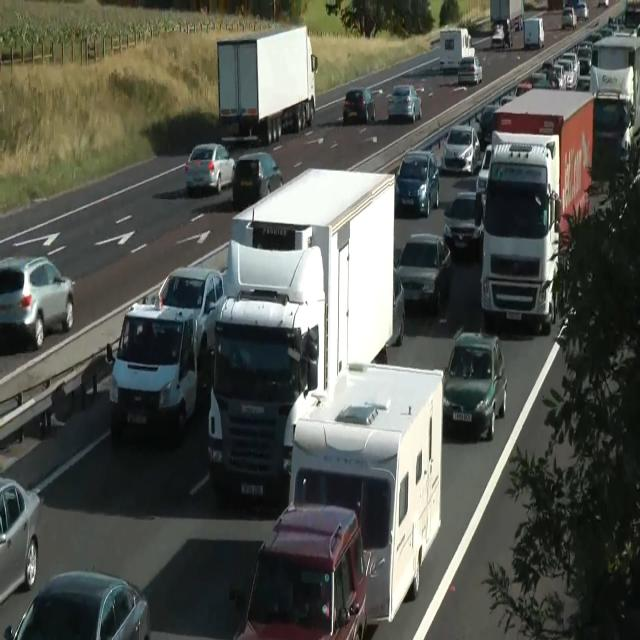bus: (4, 568, 151, 639), (441, 330, 507, 441), (0, 255, 74, 350), (0, 476, 40, 606), (396, 233, 452, 312), (394, 149, 440, 217), (231, 151, 283, 206), (184, 142, 235, 195), (443, 190, 483, 252), (443, 124, 480, 174), (385, 266, 405, 346), (386, 84, 422, 122), (342, 87, 376, 125), (475, 143, 492, 216), (477, 104, 499, 144), (457, 56, 482, 84), (491, 18, 513, 48), (576, 42, 592, 74), (561, 6, 577, 28), (514, 81, 532, 98), (575, 1, 589, 20), (492, 24, 504, 46), (598, 0, 608, 7)
car: (105, 164, 445, 634), (479, 131, 561, 333)
jeep: (207, 291, 319, 505), (232, 502, 370, 638), (105, 300, 199, 442), (153, 265, 224, 363)
minibus: (207, 166, 395, 506), (286, 362, 444, 625), (480, 87, 634, 326), (216, 24, 318, 146), (590, 27, 640, 165), (439, 26, 475, 74), (490, 0, 524, 48), (523, 16, 545, 50)
